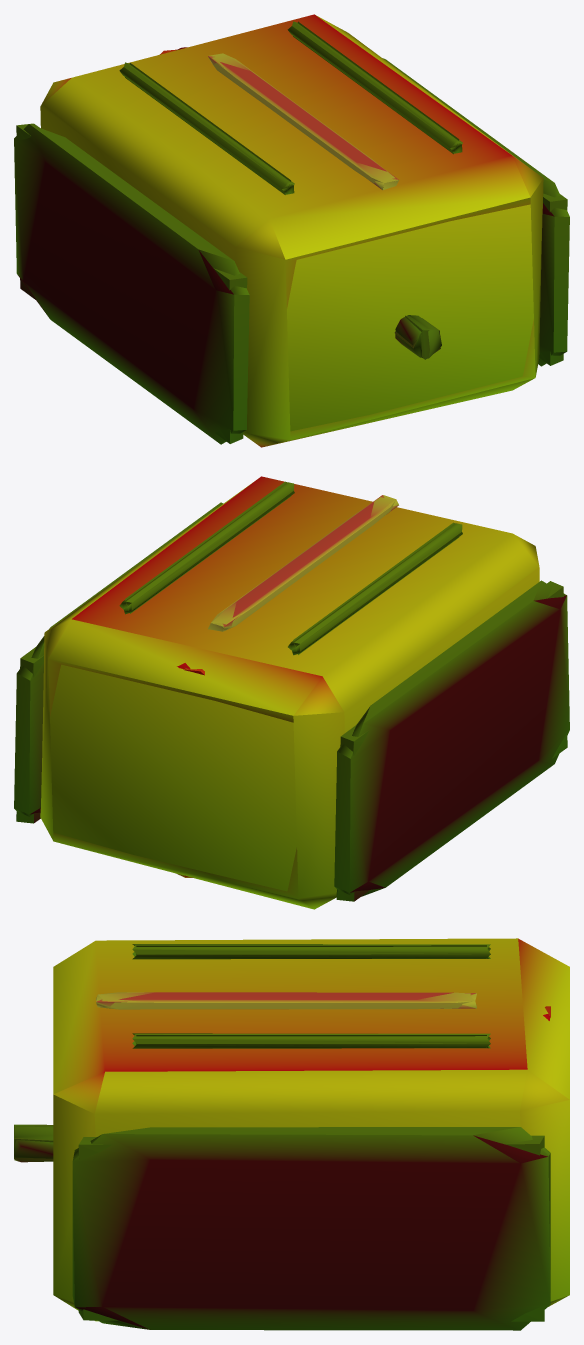
The model's file is RCLModule_skyguard_sam_solar_flare_radiation_shield_aps_LODs.fbx.
3 views of the same model, one above another, from view 1: azimuth 30°, elevation 25°; view 2: azimuth 150°, elevation 25°; view 3: azimuth 270°, elevation 25° (orthographic). The views are drawn at different scales.
Visible parts, largest first — view 1: LOD1_RCLModule_skyguard_sam_solar_flare_radiation_shield_aps (×3), LOD2_RCLModule_skyguard_sam_solar_flare_radiation_shield_aps (×2); view 2: LOD1_RCLModule_skyguard_sam_solar_flare_radiation_shield_aps (×3), LOD2_RCLModule_skyguard_sam_solar_flare_radiation_shield_aps (×2); view 3: LOD1_RCLModule_skyguard_sam_solar_flare_radiation_shield_aps (×3), LOD2_RCLModule_skyguard_sam_solar_flare_radiation_shield_aps (×2).
Part boxes in pixels (<box>): LOD1_RCLModule_skyguard_sam_solar_flare_radiation_shield_aps (×3): <box>14,14,569,447</box>; LOD2_RCLModule_skyguard_sam_solar_flare_radiation_shield_aps (×2): <box>16,21,567,443</box>; LOD1_RCLModule_skyguard_sam_solar_flare_radiation_shield_aps (×3): <box>14,476,569,909</box>; LOD2_RCLModule_skyguard_sam_solar_flare_radiation_shield_aps (×2): <box>16,481,567,901</box>; LOD1_RCLModule_skyguard_sam_solar_flare_radiation_shield_aps (×3): <box>14,938,569,1330</box>; LOD2_RCLModule_skyguard_sam_solar_flare_radiation_shield_aps (×2): <box>14,945,544,1321</box>.
Size of the model in its own units: 34.46 by 23.49 by 44.15.
